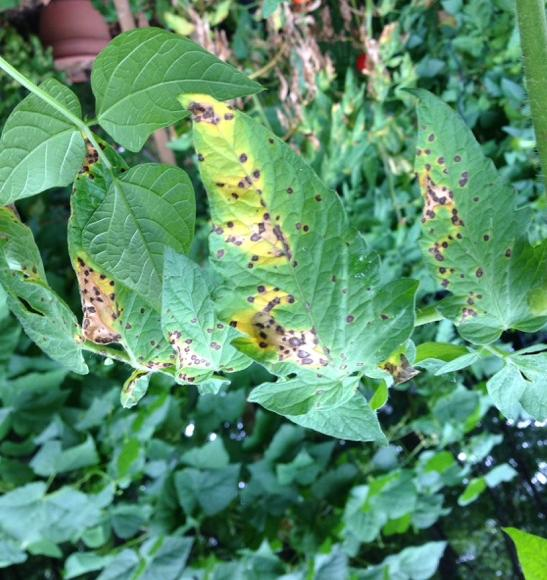Tomato Septoria leaf spot: (179, 93, 383, 373), (403, 96, 529, 346), (166, 235, 225, 379)
Tomato leaf: (0, 76, 87, 214)
